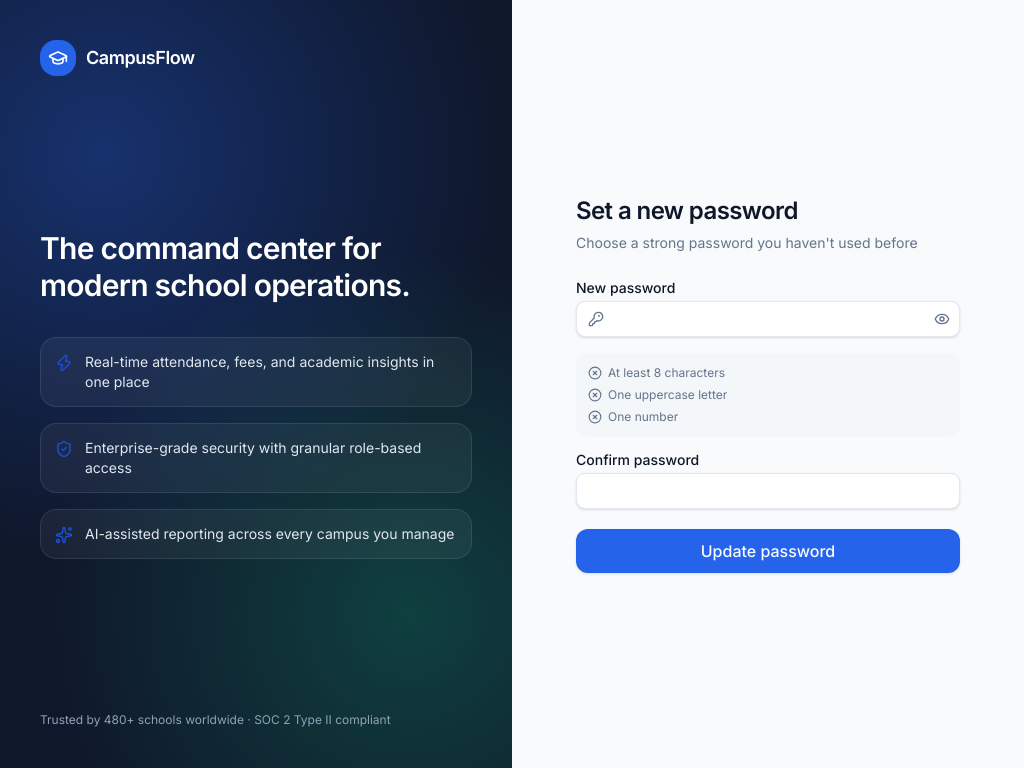
Test: ResetPasswordPage › shows a validation error when the passwords do not match
Type "Password1" into the password field labelled "New password".
click(768, 319); type("Password1")  # box 576,301 -> 960,337
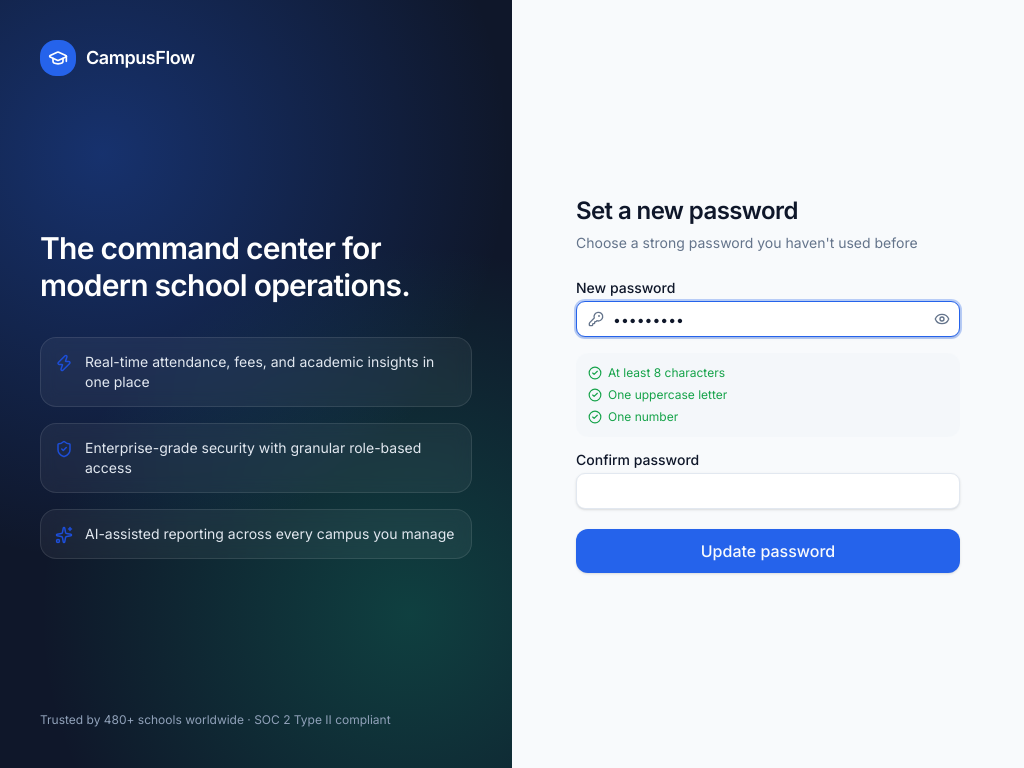
Type "Password2" into the password field labelled "Confirm password".
click(768, 491); type("Password2")  # box 576,473 -> 960,509
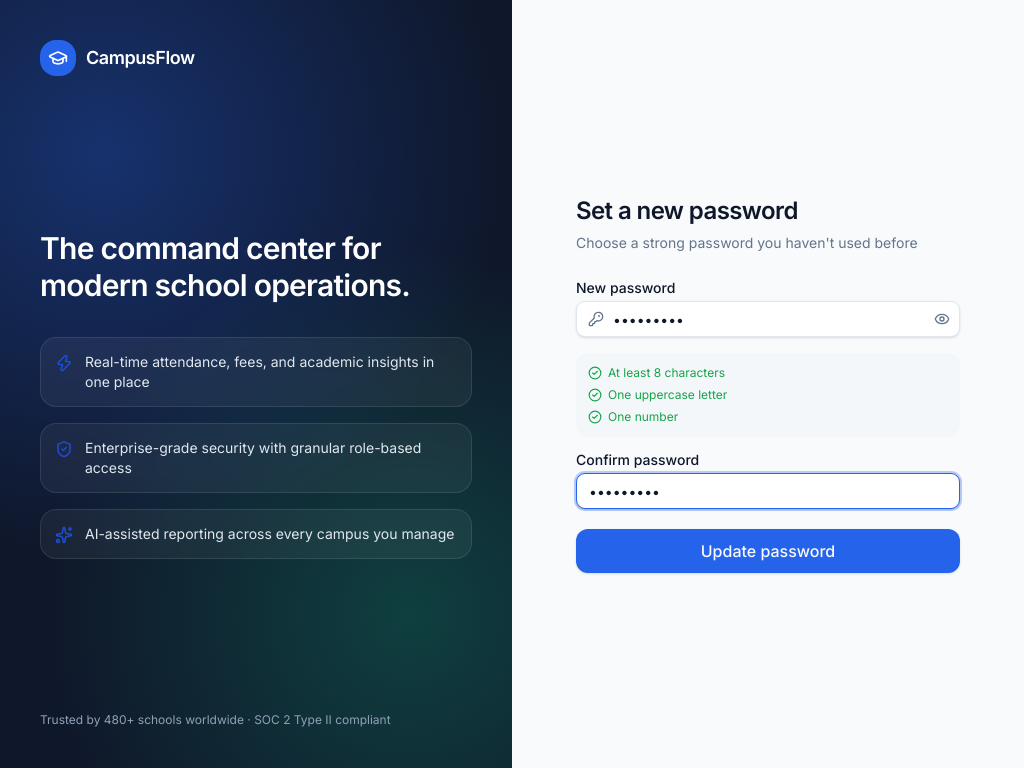
Click the button "Update password".
click(768, 551)  # box 576,529 -> 960,573
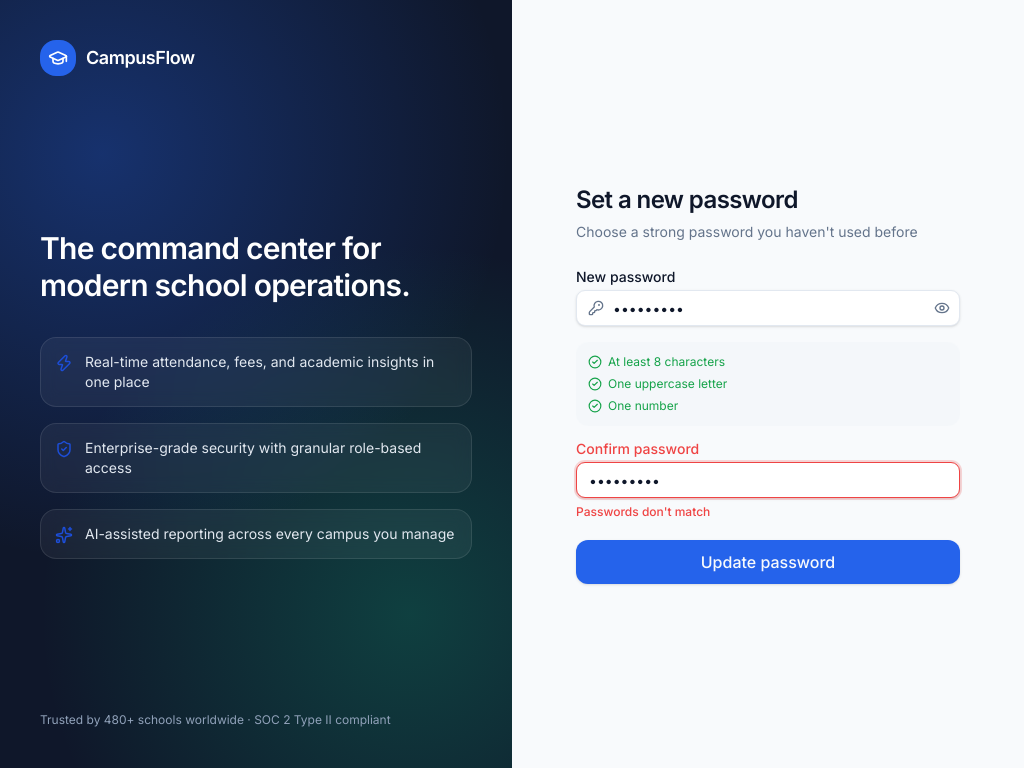
expect the text "Passwords don't match" is shown: met, box 576,504 -> 710,519
